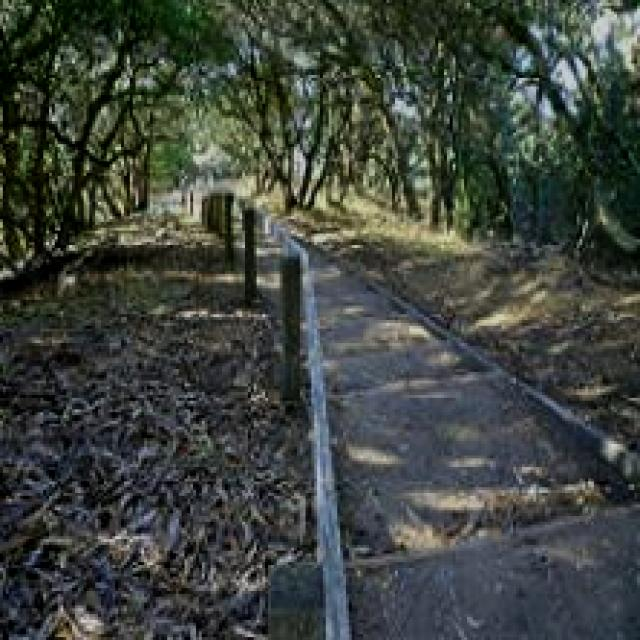downstair: (324, 393, 589, 572)
